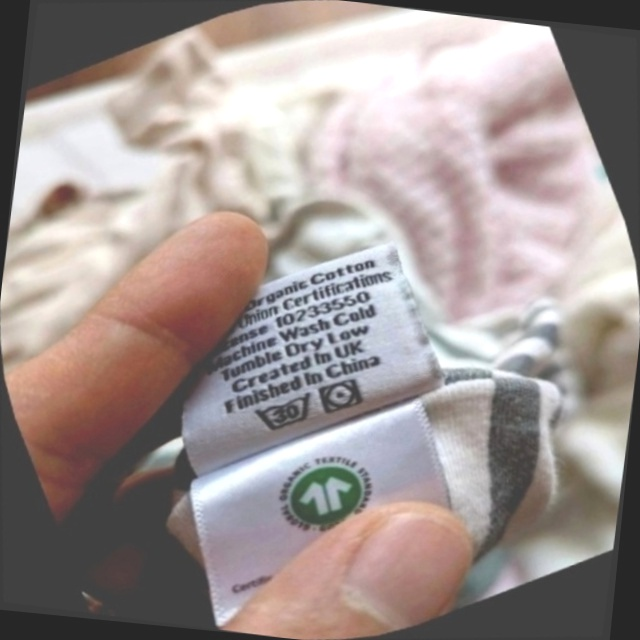30C: (238, 374, 332, 452)
tumble_dry_low: (305, 363, 376, 429)
